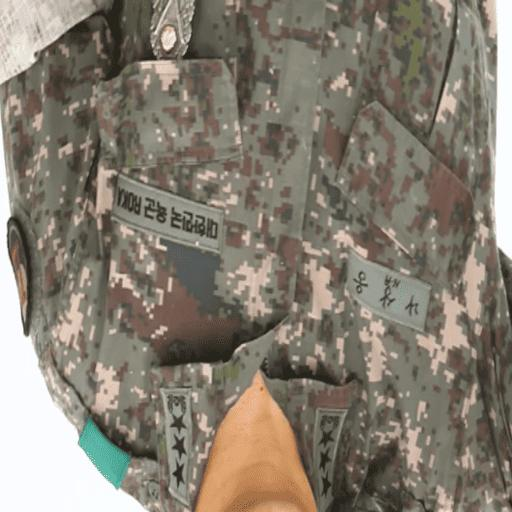korea army: (1, 1, 512, 512)
